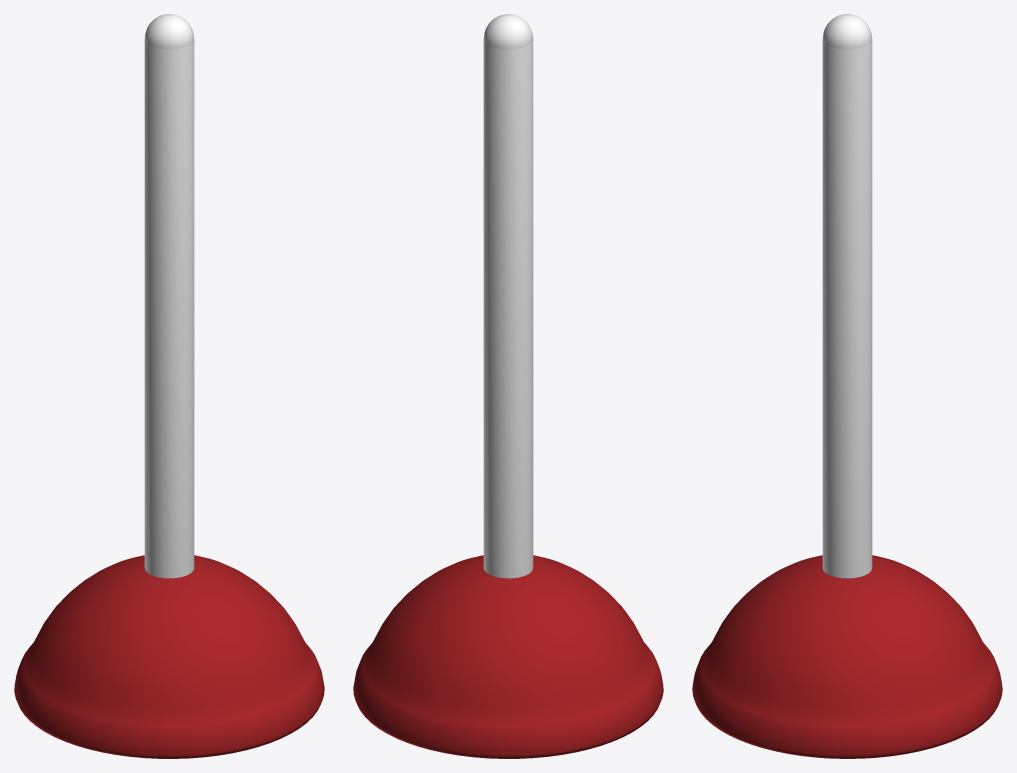
3 renders of one model, left to right at view 1: azimuth 30°, elevation 25°; view 2: azimuth 150°, elevation 25°; view 3: azimuth 270°, elevation 25°, orthographic.
Visible parts, largest first — view 1: Cylinder; view 2: Cylinder; view 3: Cylinder.
Boxes of the visible parts, bbox=[...] form: Cylinder: bbox=[14, 14, 324, 758]; Cylinder: bbox=[353, 14, 663, 758]; Cylinder: bbox=[692, 14, 1002, 758].
Size of the model in its own units: 1252 by 3018 by 1252.
